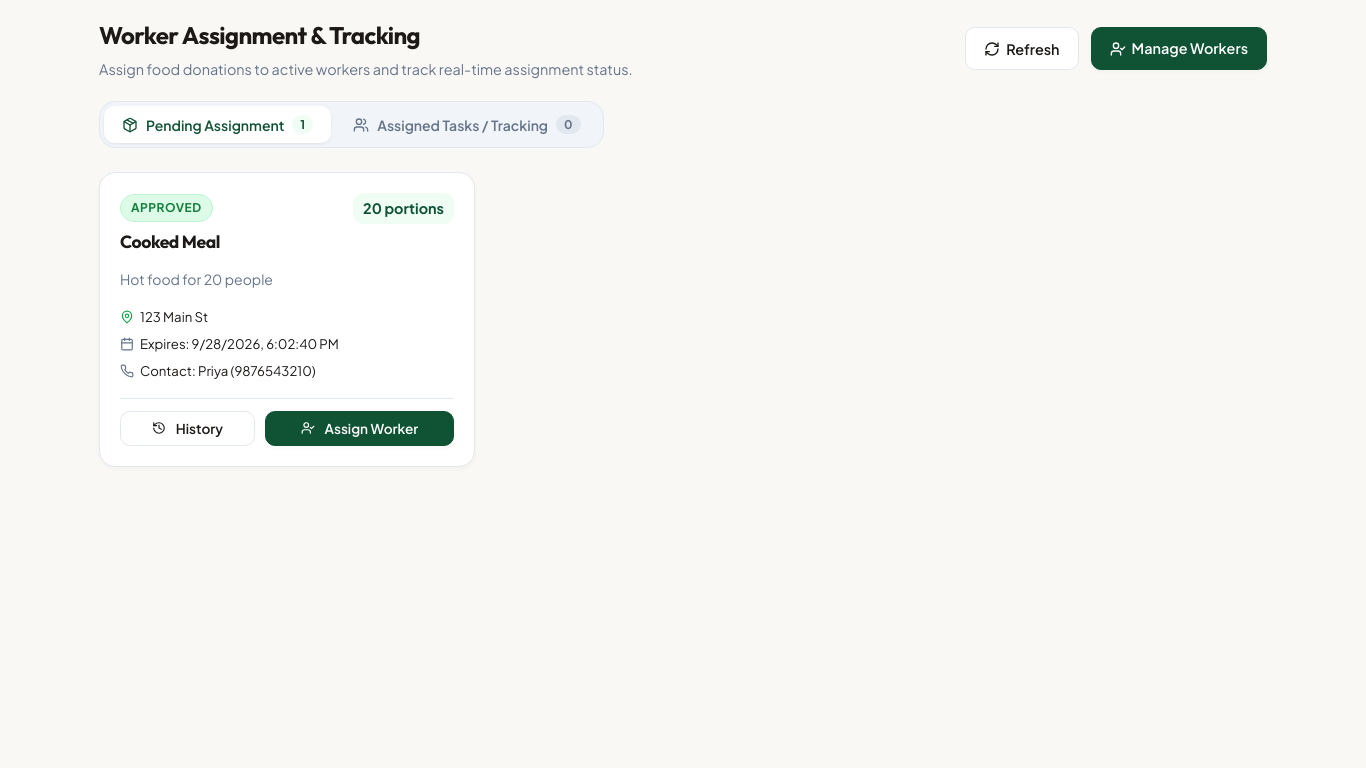
Test: Frontend Module 04 — Unit & Component Tests › AdminAssignmentQueuePage Worker Selector › shows worker options in the selector when loaded
Click the button "Assign Worker".
click(359, 428)  # box [265,410,454,446]
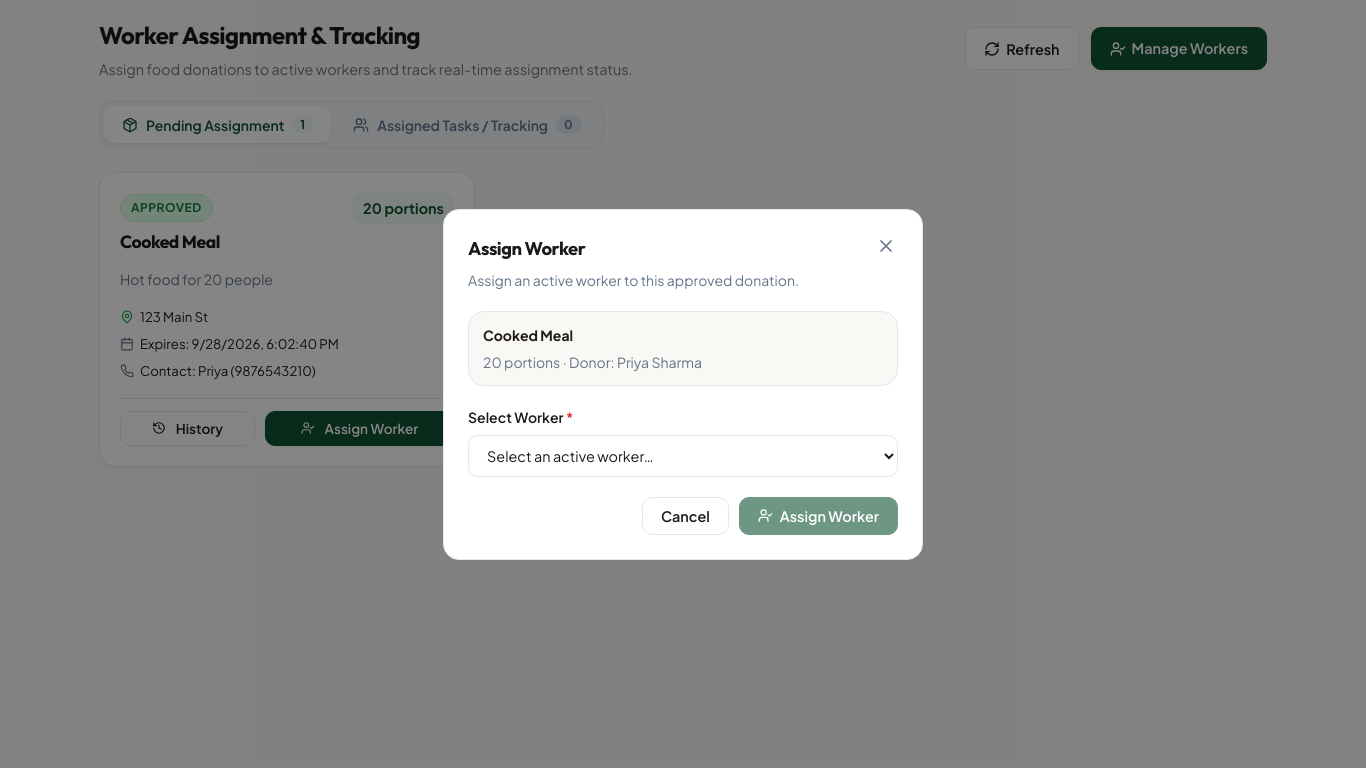
Expected: the dropdown is shown, [468,434,898,476]
